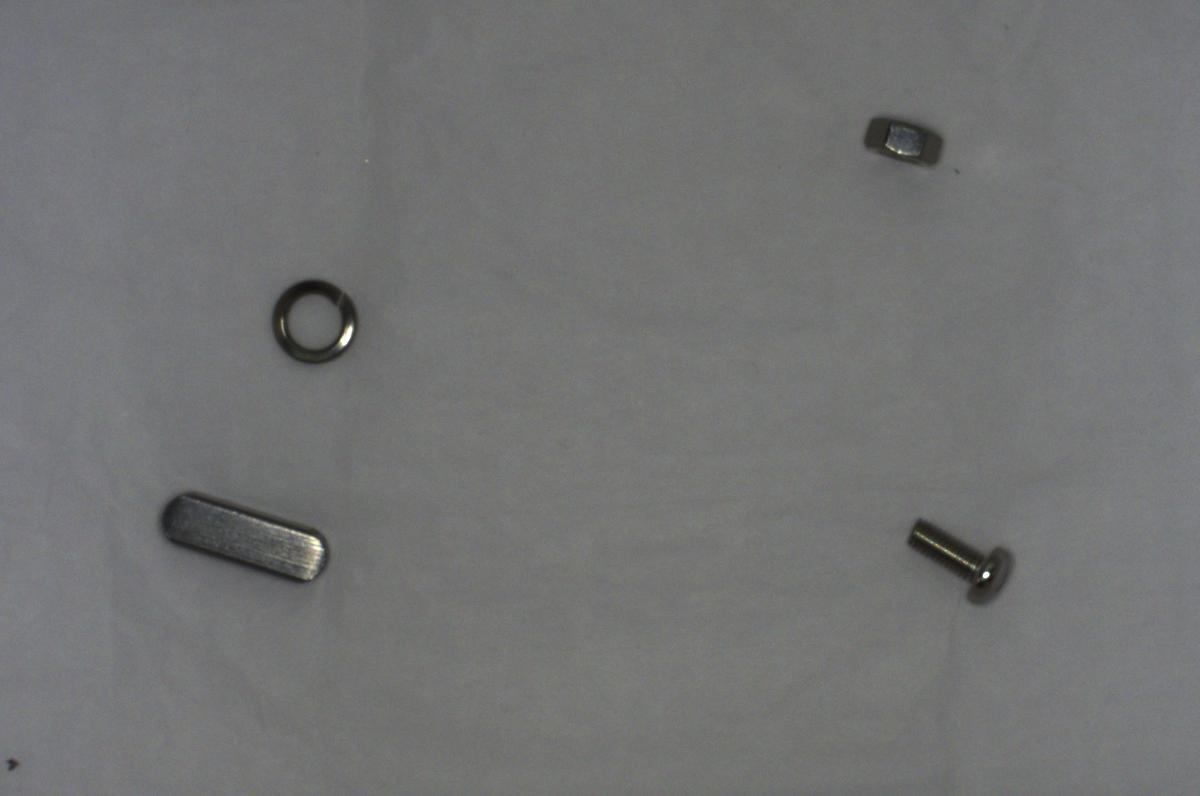Hexagon nut: (855, 107, 951, 169)
Keybar: (146, 478, 340, 594)
Round head screw: (902, 505, 1021, 615)
Spring washer: (260, 265, 366, 368)
